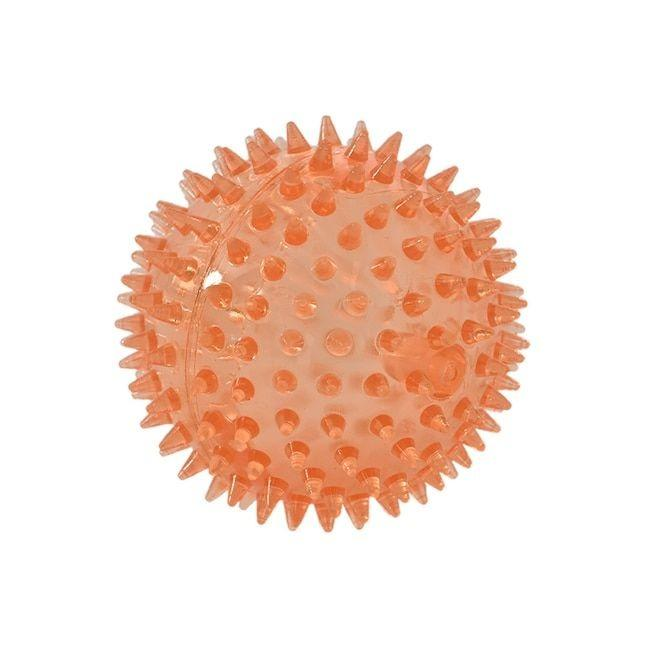non-dog: (114, 116, 533, 535)
